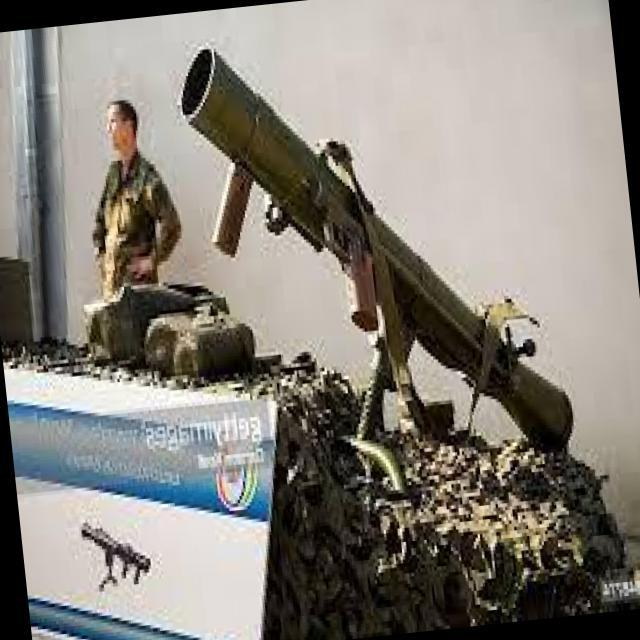rocket: (175, 11, 576, 484)
